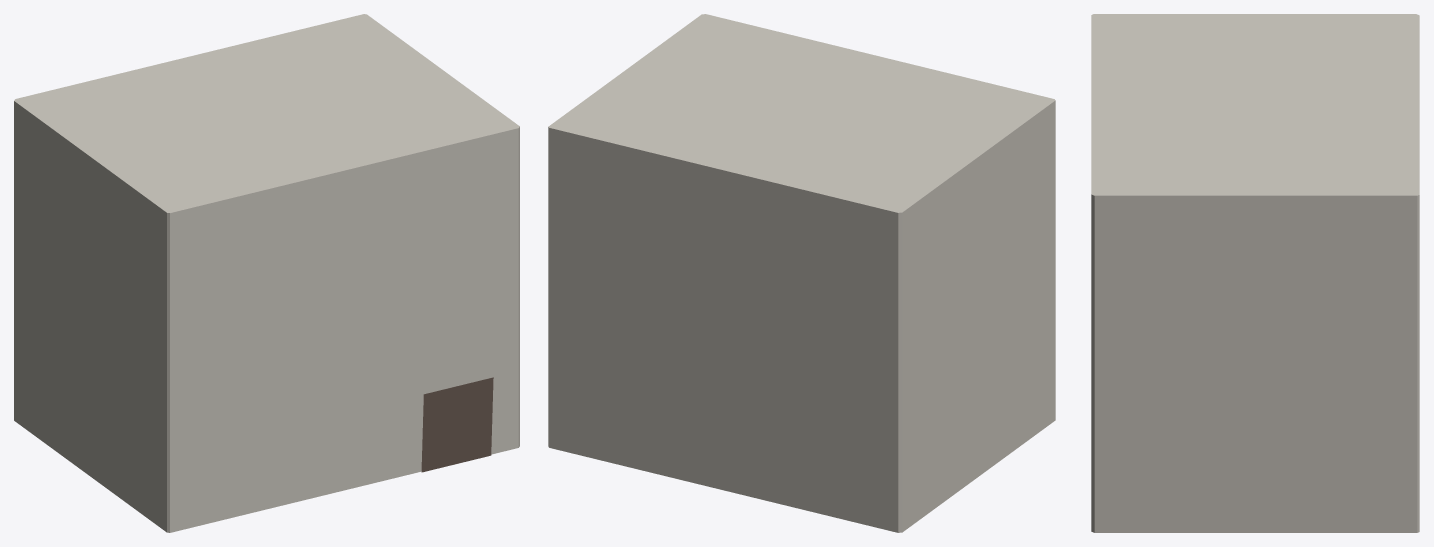
File: loin-etape-1.glb
3 views of the same model, side by side, from view 1: azimuth 30°, elevation 25°; view 2: azimuth 150°, elevation 25°; view 3: azimuth 270°, elevation 25° (orthographic). The views are drawn at different scales.
Parts seen in each view (by area): view 1: loin; view 2: loin; view 3: loin.
Boxes of the visible parts, <box> form: loin: <box>14,14,519,532</box>; loin: <box>548,14,1055,532</box>; loin: <box>1091,14,1419,532</box>.
Size of the model in its own units: 0.7434 by 0.6431 by 0.5792.
